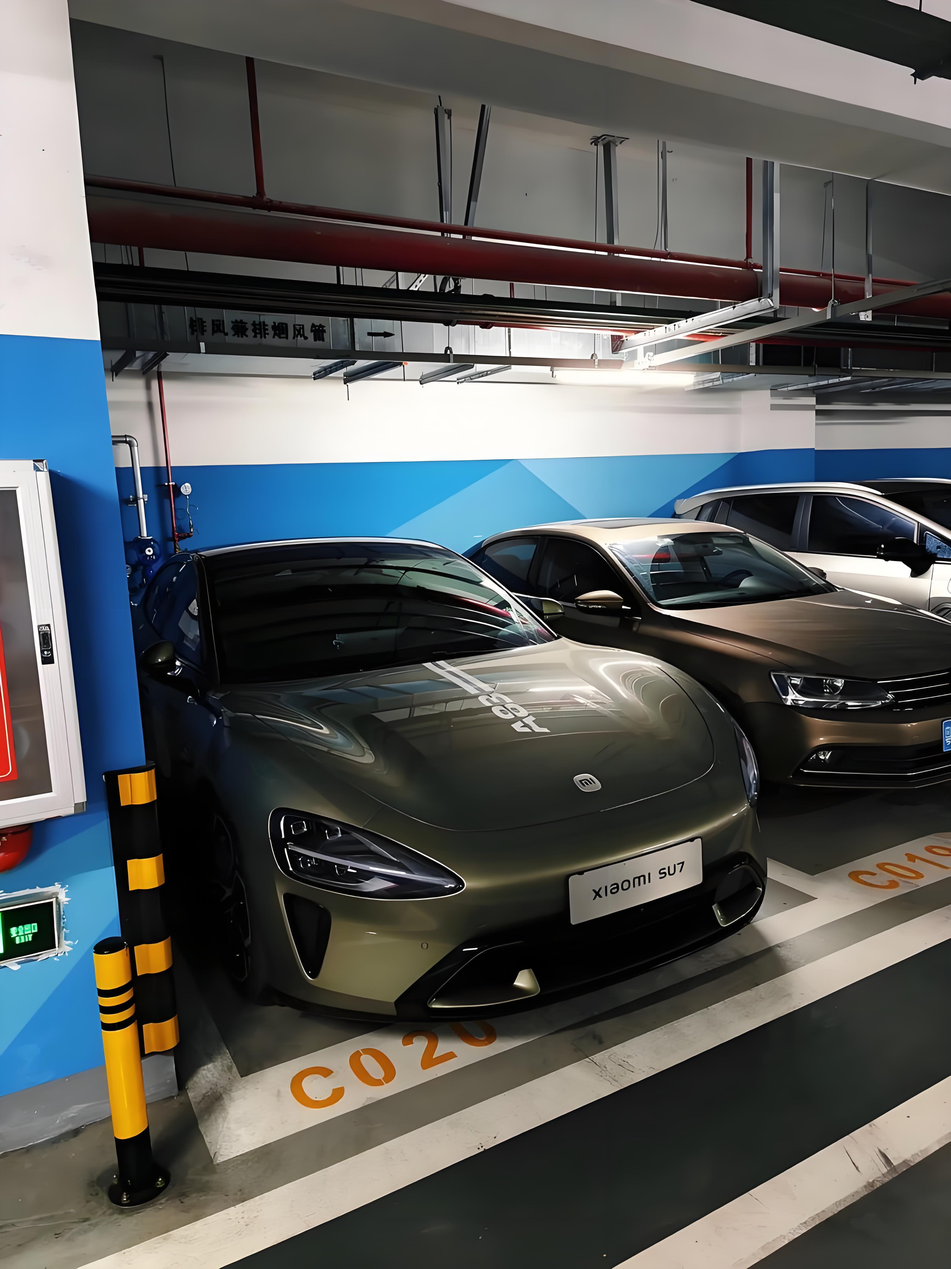XIAOMI: (574, 774, 601, 792)
